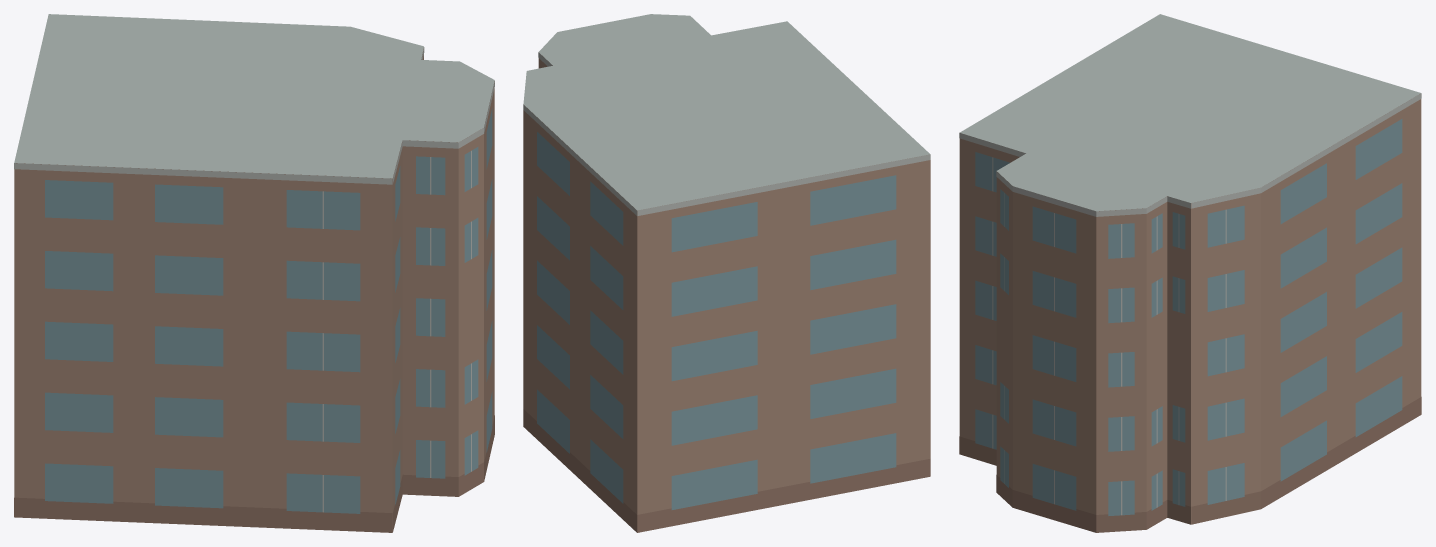
Rendered from survey-upis-32480315.glb.
The picture shows the model from 3 angles, left to right: view 1: azimuth 30°, elevation 25°; view 2: azimuth 150°, elevation 25°; view 3: azimuth 270°, elevation 25°; orthographic projection. The views are drawn at different scales.
Visible parts, largest first — view 1: survey-upis-32480315.tmp; view 2: survey-upis-32480315.tmp; view 3: survey-upis-32480315.tmp.
Boxes of the visible parts, x1,y1,x2,y2 form: survey-upis-32480315.tmp: (14, 14, 494, 532); survey-upis-32480315.tmp: (523, 14, 930, 532); survey-upis-32480315.tmp: (959, 14, 1421, 532).
Size of the model in its own units: 18.3 by 13.9 by 18.11.
